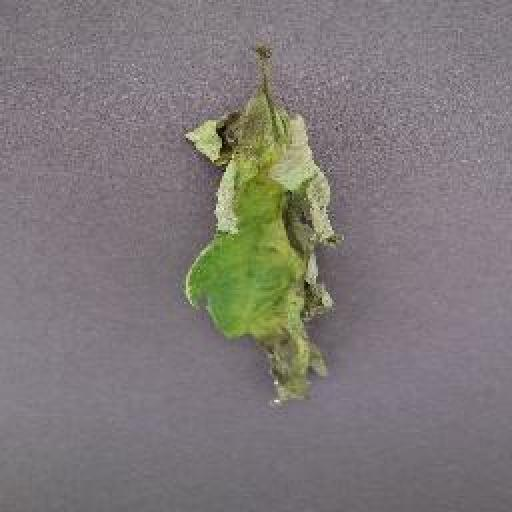Late Blight: (180, 41, 341, 408)
